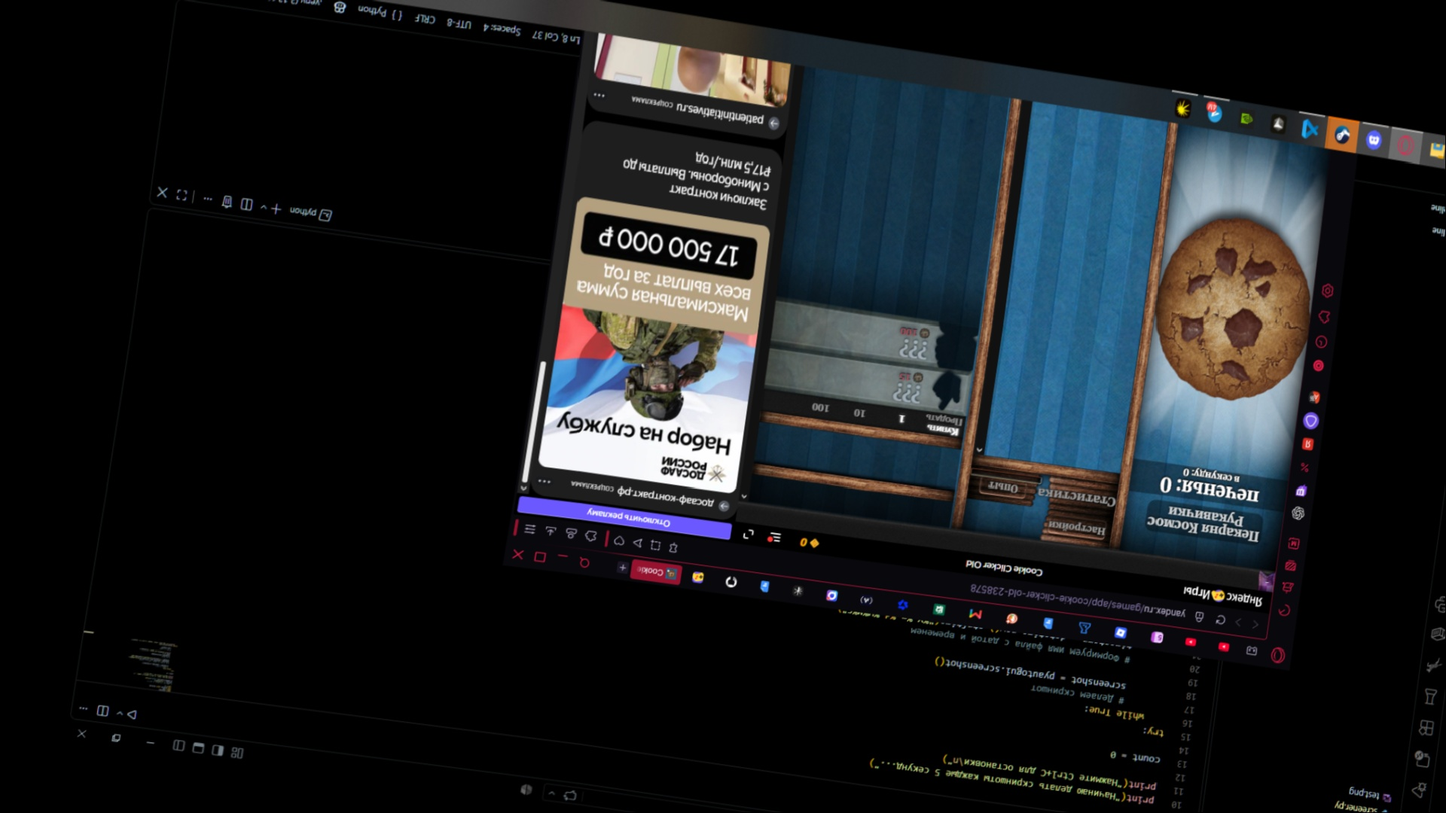game: (1147, 208, 1309, 417)
pokypki: (769, 296, 981, 436)
